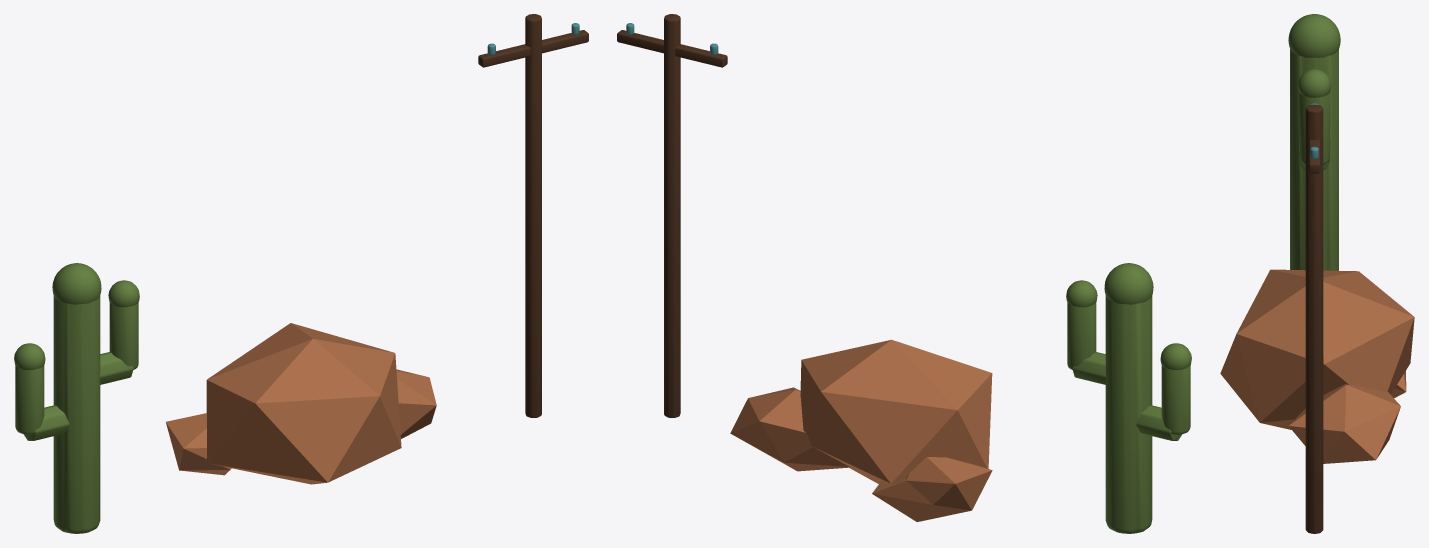
The model's file is props.glb.
3 renders of one model, left to right at view 1: azimuth 30°, elevation 25°; view 2: azimuth 150°, elevation 25°; view 3: azimuth 270°, elevation 25°, orthographic. The views are drawn at different scales.
Visible parts, largest first — view 1: rock0, c_trunk, pole, rock2, rock1, c_up-1, c_up1, c_top, cross, c_arm-1, c_arm1, c_tip1 (+1 smaller); view 2: rock0, c_trunk, pole, rock2, rock1, c_up-1, c_up1, c_top, cross, c_arm-1, c_arm1, c_tip1 (+1 smaller); view 3: rock0, pole, c_trunk, rock1, c_top, c_up1, c_tip1, cross.
Part boxes in pixels (x1=…): rock0: x1=206, y1=323, x2=401, y2=484; c_trunk: x1=53, y1=295, x2=100, y2=533; pole: x1=525, y1=14, x2=541, y2=417; rock2: x1=166, y1=413, x2=231, y2=475; rock1: x1=396, y1=369, x2=436, y2=438; c_up-1: x1=15, y1=365, x2=44, y2=434; c_up1: x1=109, y1=302, x2=138, y2=369; c_top: x1=52, y1=263, x2=101, y2=304; cross: x1=478, y1=30, x2=588, y2=67; c_arm-1: x1=24, y1=405, x2=69, y2=440; c_arm1: x1=99, y1=352, x2=133, y2=384; c_tip1: x1=108, y1=280, x2=139, y2=307; rock0: x1=800, y1=339, x2=992, y2=484; c_trunk: x1=1105, y1=295, x2=1152, y2=533; pole: x1=664, y1=14, x2=680, y2=417; rock2: x1=872, y1=457, x2=992, y2=521; rock1: x1=730, y1=387, x2=850, y2=471; c_up-1: x1=1161, y1=365, x2=1190, y2=434; c_up1: x1=1067, y1=302, x2=1096, y2=369; c_top: x1=1104, y1=263, x2=1153, y2=304; cross: x1=617, y1=30, x2=727, y2=67; c_arm-1: x1=1136, y1=405, x2=1181, y2=440; c_arm1: x1=1072, y1=352, x2=1106, y2=384; c_tip1: x1=1066, y1=280, x2=1097, y2=307; rock0: x1=1220, y1=269, x2=1414, y2=429; pole: x1=1305, y1=104, x2=1323, y2=533; c_trunk: x1=1290, y1=49, x2=1338, y2=270; rock1: x1=1289, y1=384, x2=1400, y2=463; c_top: x1=1288, y1=14, x2=1340, y2=57; c_up1: x1=1298, y1=91, x2=1330, y2=164; c_tip1: x1=1297, y1=69, x2=1331, y2=97; cross: x1=1309, y1=139, x2=1320, y2=173.
Size of the model in its own units: 7.5 by 5.23 by 2.08.
